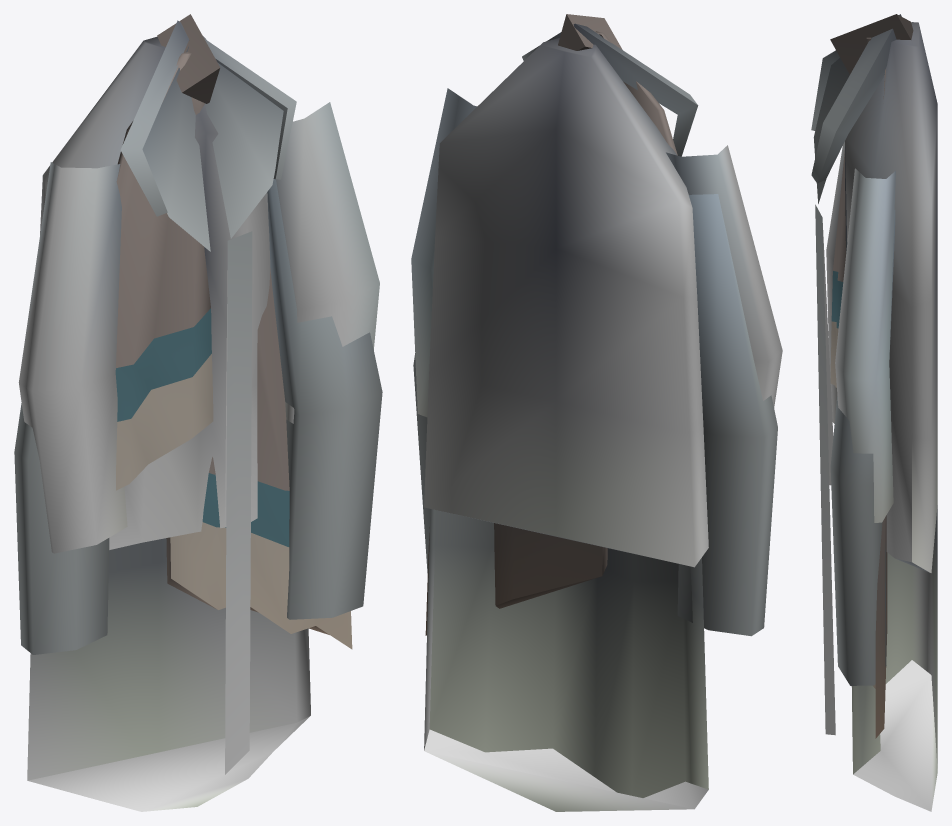
Rendered from prop_coat_hung.glb.
The picture shows the model from 3 angles, left to right: view 1: azimuth 30°, elevation 25°; view 2: azimuth 150°, elevation 25°; view 3: azimuth 270°, elevation 25°; orthographic projection. The views are drawn at different scales.
Parts seen in each view (by area): view 1: coat_long, coat_short, coat_shawl; view 2: coat_short, coat_long, coat_shawl; view 3: coat_short, coat_long, coat_shawl.
Boxes of the visible parts, bbox=[...] form: coat_long: bbox=[14, 20, 382, 811]; coat_short: bbox=[18, 36, 379, 553]; coat_shawl: bbox=[115, 14, 352, 649]; coat_short: bbox=[411, 38, 782, 567]; coat_long: bbox=[413, 23, 777, 811]; coat_shawl: bbox=[425, 14, 677, 635]; coat_short: bbox=[822, 22, 937, 572]; coat_long: bbox=[811, 14, 937, 811]; coat_shawl: bbox=[830, 14, 913, 738].
Bounding box in the file's own units: 0.5444 × 1.15 × 0.1724.
